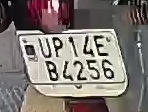1: (67, 34, 80, 57)
2: (73, 59, 88, 82)
4: (81, 35, 95, 57), (60, 61, 74, 81)
5: (85, 58, 101, 81)
6: (100, 58, 115, 81)
B: (44, 59, 59, 82)
E: (92, 35, 110, 58)
P: (51, 35, 65, 58)
U: (36, 36, 52, 60)
